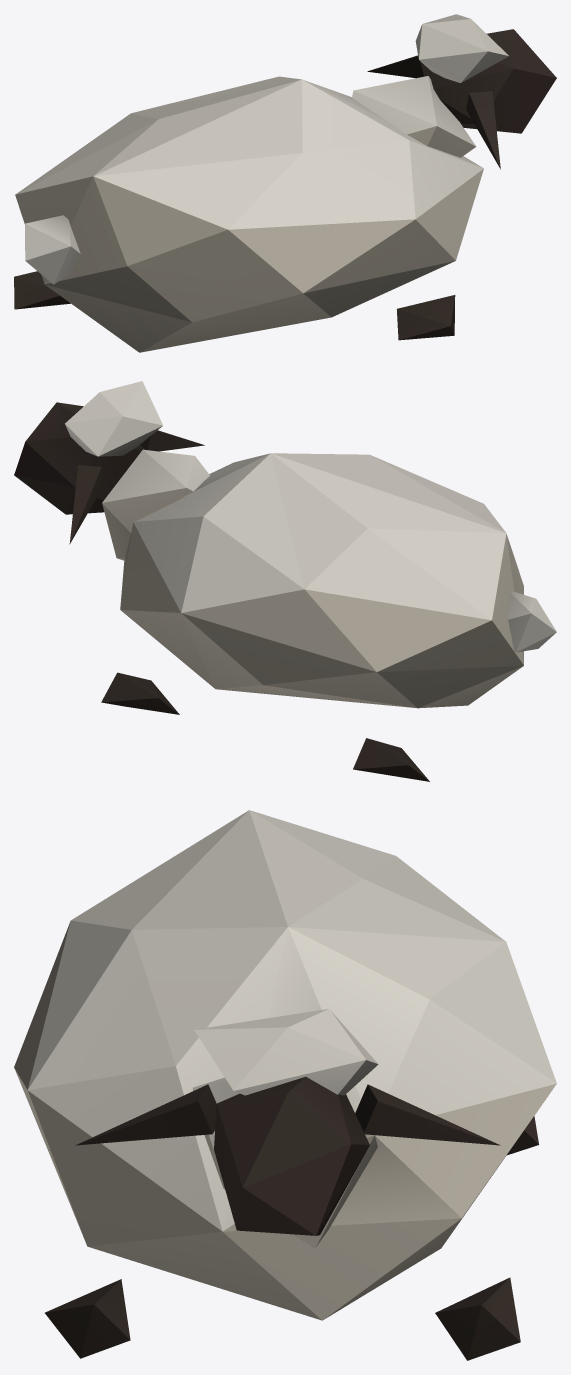
Rendered from restsheep.glb.
3 renders of one model, top to bottom at view 1: azimuth 30°, elevation 25°; view 2: azimuth 150°, elevation 25°; view 3: azimuth 270°, elevation 25°, orthographic. The views are drawn at different scales.
Parts seen in each view (by area): view 1: base, head_m; view 2: base, head_m; view 3: base, head_m.
Boxes of the visible parts, x1,y1,x2,y2 form: base: (14, 76, 483, 352); head_m: (367, 14, 556, 169); base: (101, 449, 556, 781); head_m: (14, 381, 204, 544); base: (14, 810, 556, 1360); head_m: (75, 1009, 500, 1235).
Bounding box in the file's own units: 0.4962 × 0.2256 × 0.2802.
